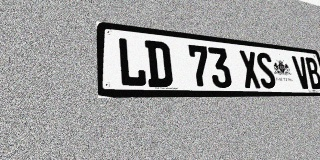3: (207, 47, 233, 88)
7: (186, 44, 213, 88)
B: (304, 57, 320, 89)
D: (145, 40, 173, 87)
L: (117, 37, 147, 87)
S: (255, 52, 277, 89)
V: (292, 56, 312, 89)
X: (238, 50, 262, 88)
